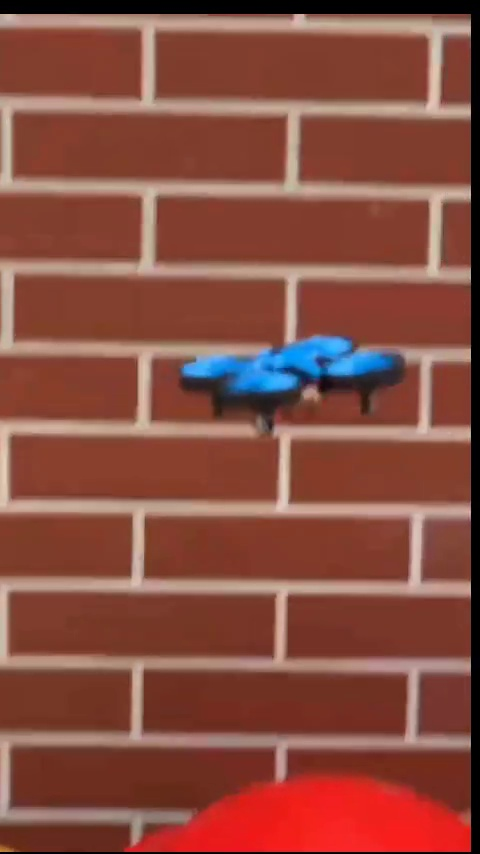drone: (180, 337, 410, 435)
